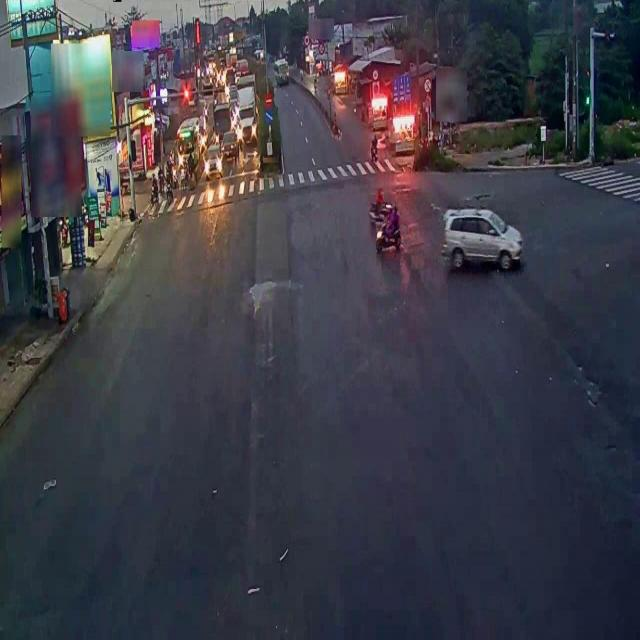car: (441, 204, 525, 271)
motorcycle: (375, 200, 401, 250)
